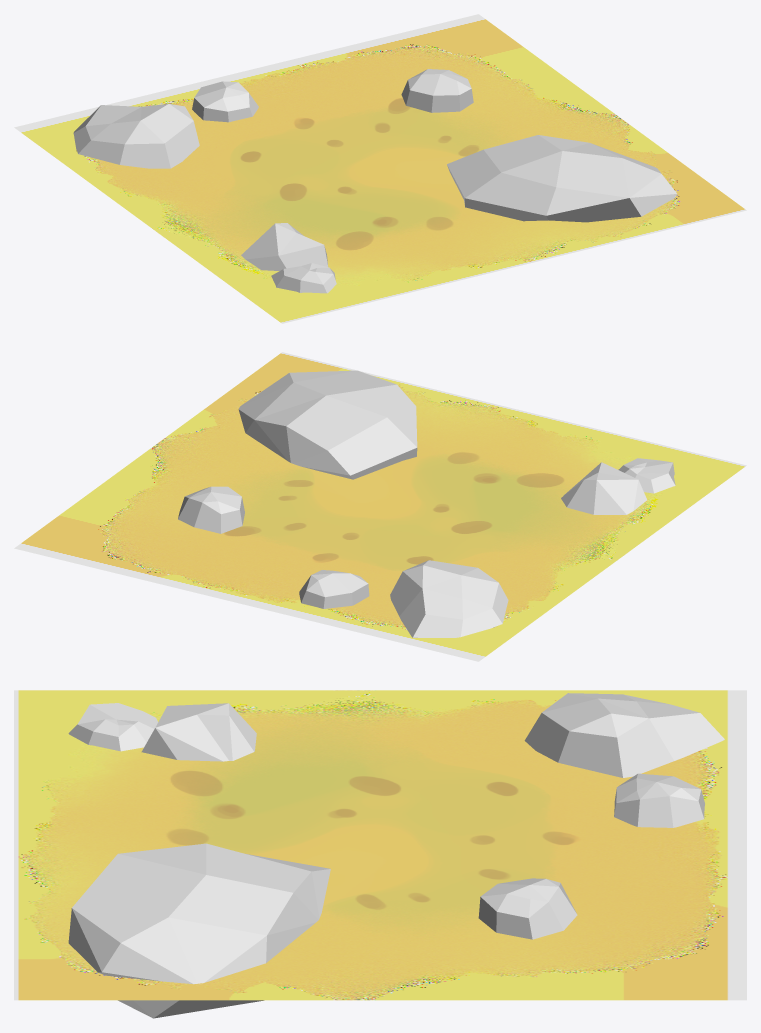
The model's file is path.fbx.
The picture shows the model from 3 angles, top to bottom: view 1: azimuth 30°, elevation 25°; view 2: azimuth 150°, elevation 25°; view 3: azimuth 270°, elevation 25°; orthographic projection. The views are drawn at different scales.
Visible parts, largest first — view 1: Plane, Sphere.004; view 2: Plane, Sphere.004; view 3: Plane, Sphere.004.
Part boxes in pixels (x1,y1,x2,y2): Plane: (14,14,746,323); Sphere.004: (73,69,676,293); Plane: (14,352,746,661); Sphere.004: (178,370,675,637); Plane: (14,690,746,1000); Sphere.004: (68,693,724,1018).
Bounding box in the file's own units: 744 × 106 × 744.
Materials: 1 (1 with a texture image).
